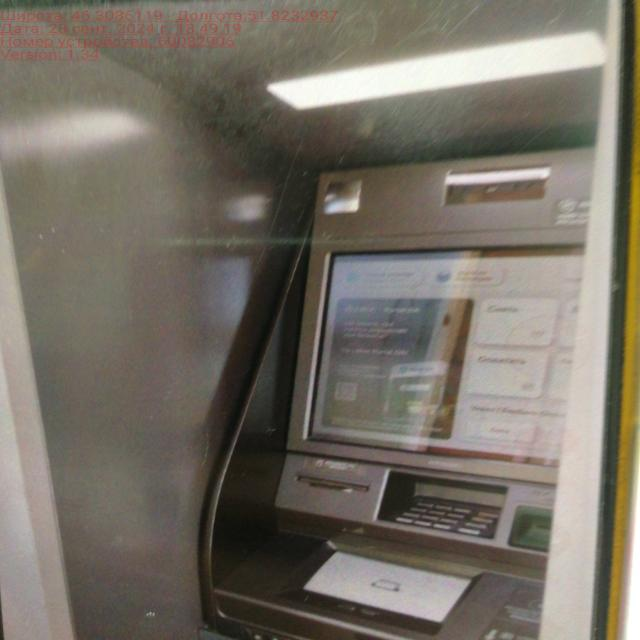bank: (89, 70, 640, 639)
